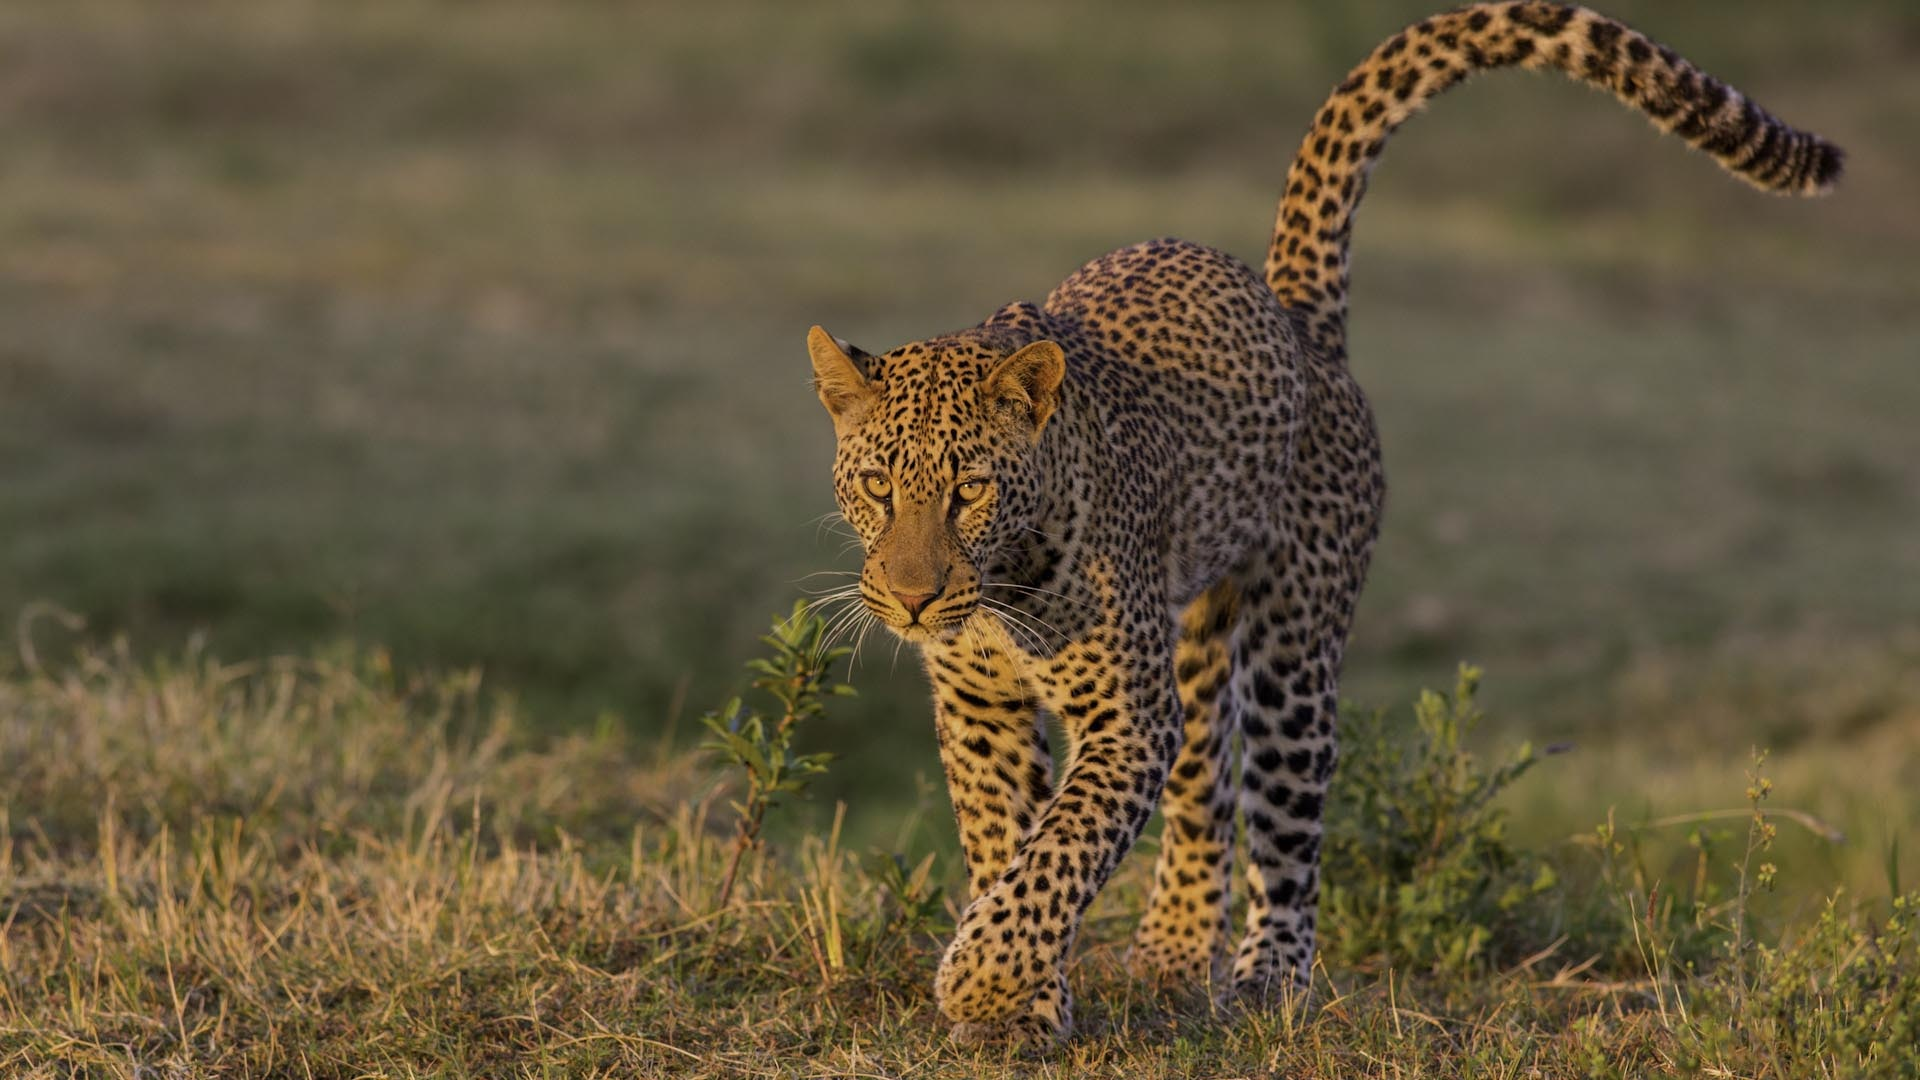leopard: (794, 1, 1862, 1062)
